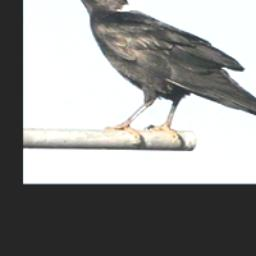Crow: (57, 0, 256, 148)
